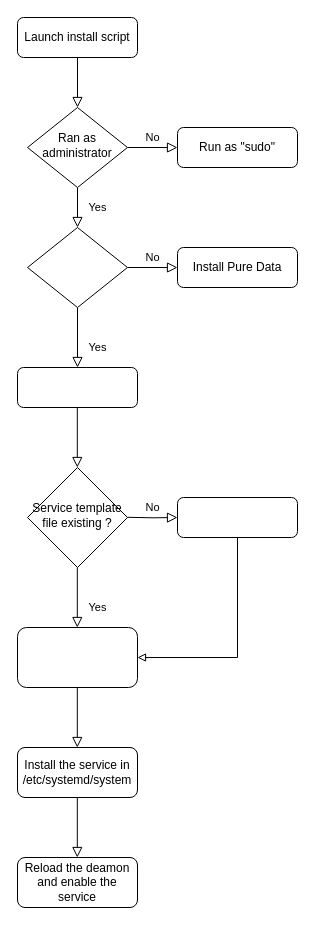
The diagram is 315 pixels wide and 925 high, and some of its shapes have lost their labels. The centre of each missing label's shape, as x and y in pixels:
"Fetch the file from git repo" goes at [237,517].
"Fill in the template files (systemd service + start shell script)" goes at [77,657].
"Install Python requirements" goes at [77,387].
"Pure Data instralled" goes at [77,267].
